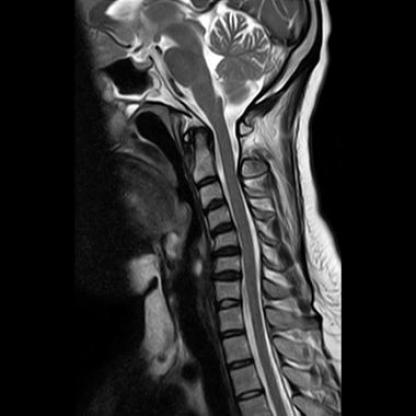Disc Bulgerotation: (211, 244, 242, 260), (211, 269, 243, 284), (208, 222, 237, 236)
